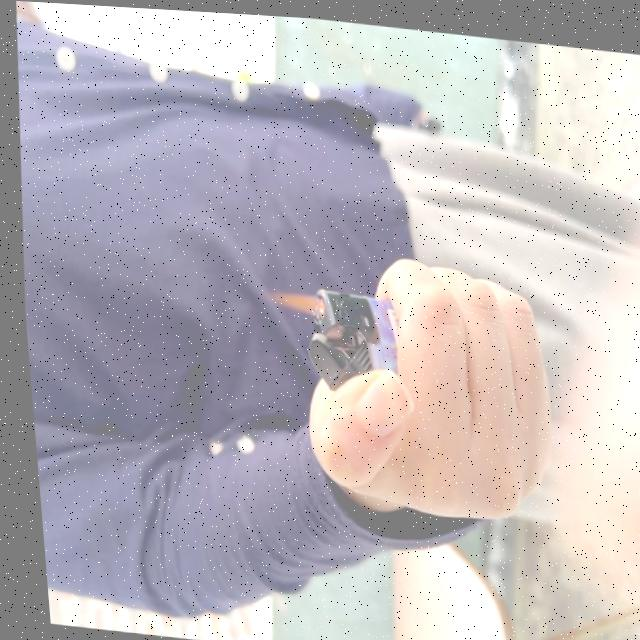Fire: (258, 283, 320, 315)
